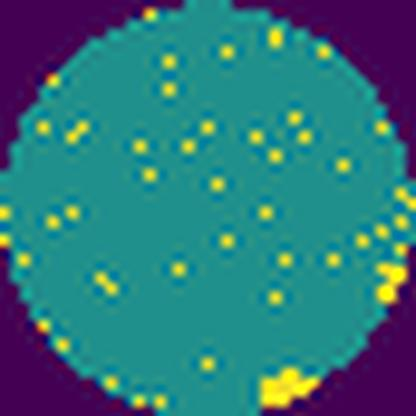Edge-Loc: (252, 359, 326, 410), (374, 254, 412, 302)
